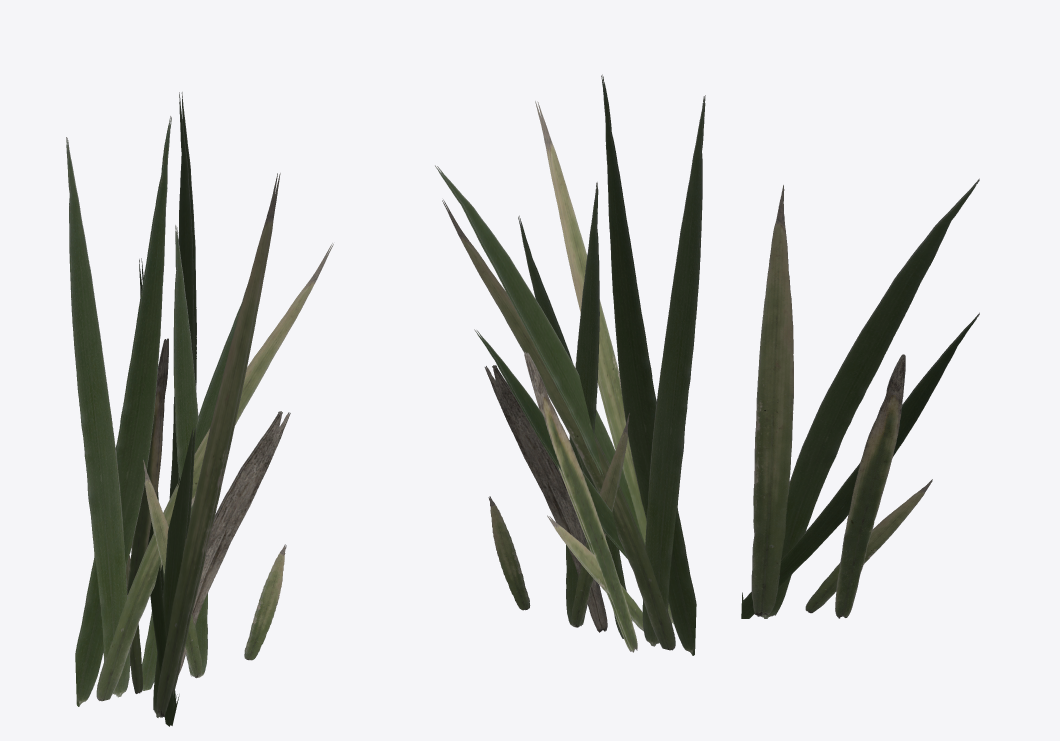
Rendered from SM_Grass03.FBX.
The picture shows the model from 3 angles, left to right: view 1: azimuth 30°, elevation 25°; view 2: azimuth 150°, elevation 25°; view 3: azimuth 270°, elevation 25°; orthographic projection. The views are drawn at different scales.
Visible parts, largest first — view 1: SM_Grass03; view 2: SM_Grass03; view 3: SM_Grass03.
Boxes of the visible parts, bbox=[...] form: SM_Grass03: bbox=[66, 92, 333, 726]; SM_Grass03: bbox=[435, 74, 705, 655]; SM_Grass03: bbox=[741, 178, 979, 618].
Bounding box in the file's own units: 29.05 × 26.03 × 53.92.
